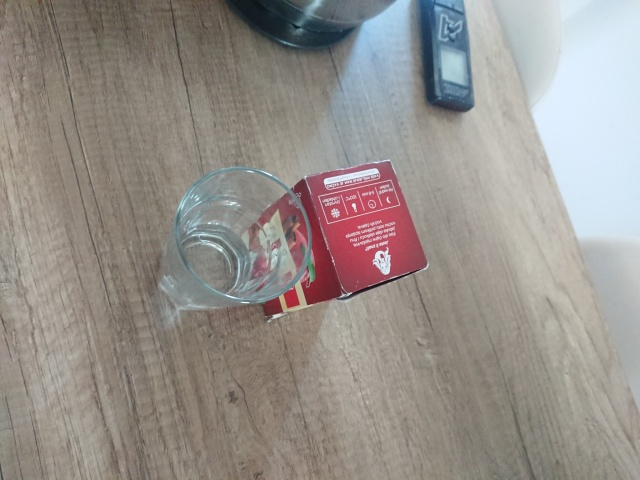Franck Apple Cinnamon Tea 60g: (234, 157, 430, 324)
